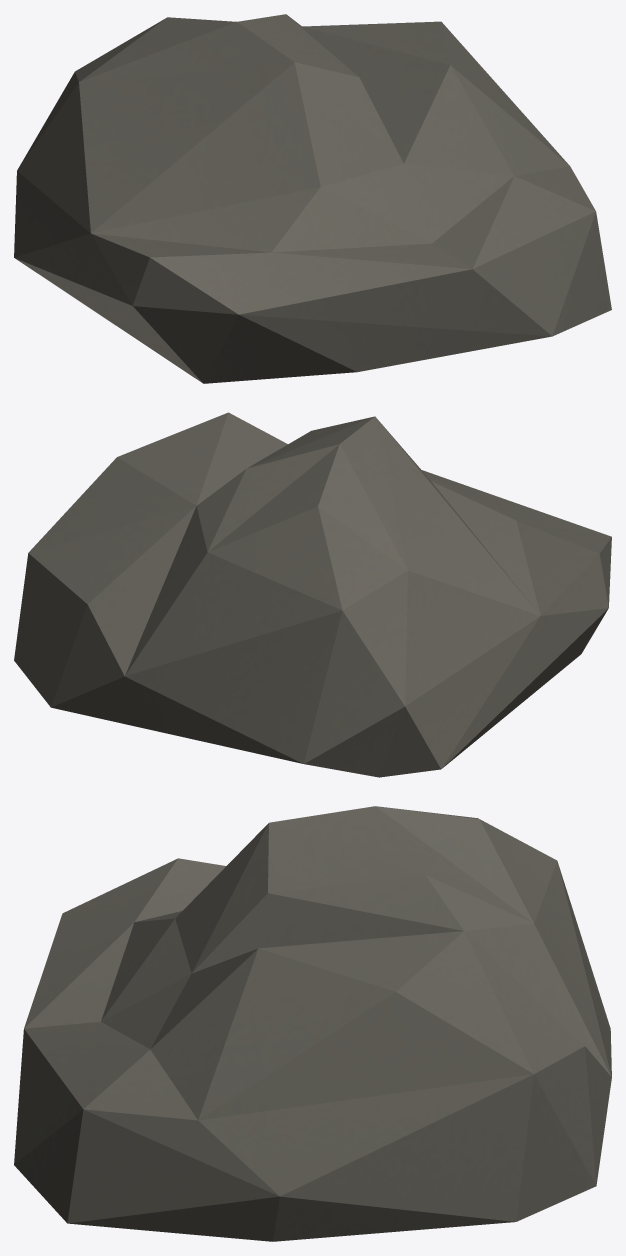
The model's file is Rock_4.fbx.
3 renders of one model, top to bottom at view 1: azimuth 30°, elevation 25°; view 2: azimuth 150°, elevation 25°; view 3: azimuth 270°, elevation 25°, orthographic. The views are drawn at different scales.
Visible parts, largest first — view 1: Group37841; view 2: Group37841; view 3: Group37841.
Part boxes in pixels (left/top/right/bottom): Group37841: left=14, top=14, right=611, bottom=383; Group37841: left=14, top=412, right=611, bottom=777; Group37841: left=14, top=806, right=611, bottom=1241.
Bounding box in the file's own units: 433 × 222 × 409.
1 material, 1 textured.
